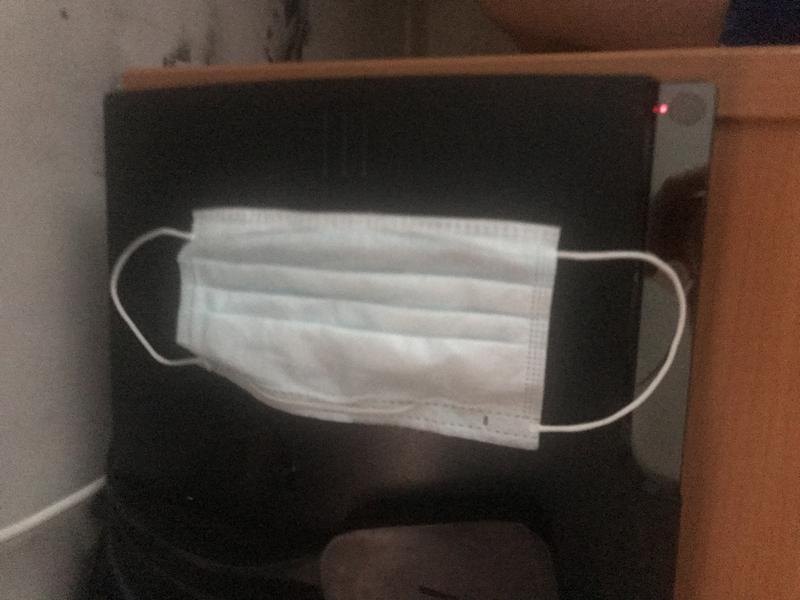medical_mask: (114, 206, 687, 446)
